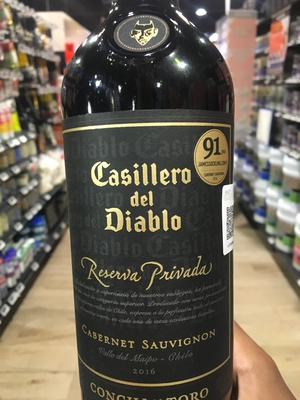casillero del diablo reserva privada cabernet sauvignon: (56, 6, 253, 400)
